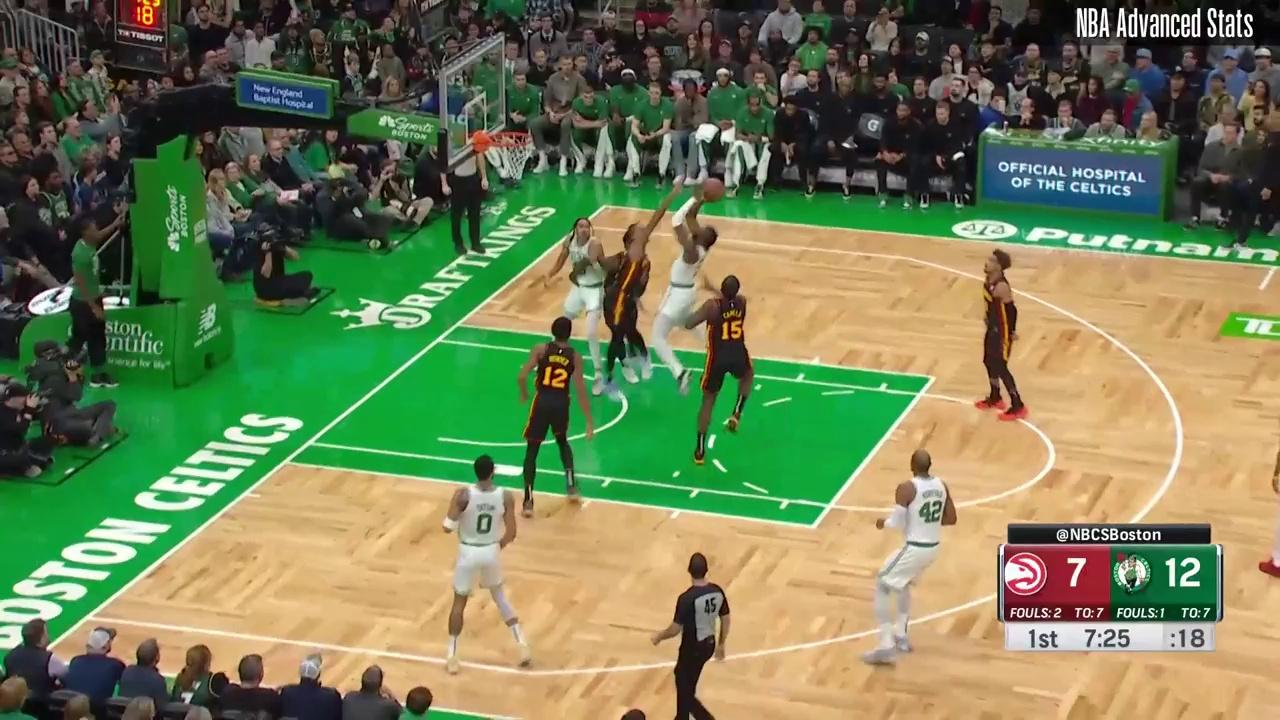3_dx: (601, 201, 612, 210)
3_sx: (82, 611, 95, 625)
free_adx: (926, 372, 939, 384)
free_asx: (806, 519, 820, 532)
free_bdx: (453, 320, 463, 329)
free_bsx: (282, 455, 293, 466)
mid_dx: (1256, 284, 1267, 295)
referee: (650, 551, 731, 720), (440, 127, 489, 256)
team: (443, 452, 531, 674), (652, 179, 718, 395), (529, 218, 606, 396)
team1: (862, 449, 957, 665), (602, 177, 684, 401), (517, 315, 594, 517), (684, 274, 753, 466), (580, 230, 651, 379), (975, 250, 1027, 419)
timer: (1080, 625, 1133, 649)
